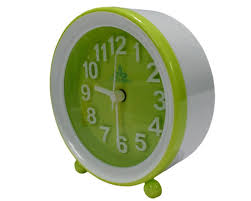alarm_clock: (48, 7, 216, 197), (48, 7, 216, 175), (51, 7, 216, 175), (51, 52, 216, 175), (47, 64, 190, 72), (46, 58, 189, 66), (42, 11, 184, 19), (45, 43, 187, 51), (46, 29, 188, 37), (46, 33, 188, 41), (51, 52, 193, 60)
